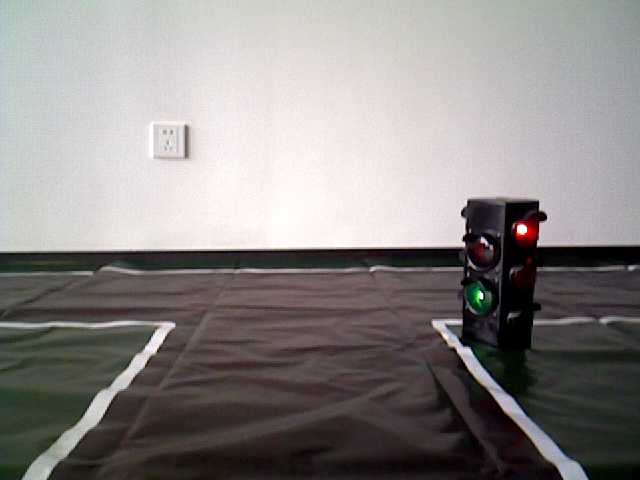red: (467, 202, 536, 354)
